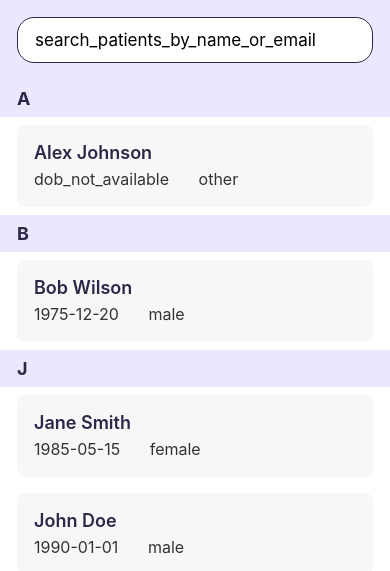
Scenario: Patients › Search Functionality › should filter patients by name
Expected: the text "John Doe" is shown, [34,510,117,531]
Type "John" into the field with placeholder "search_patients_by_name_or_email" at (195, 40), box [17,17,373,63]
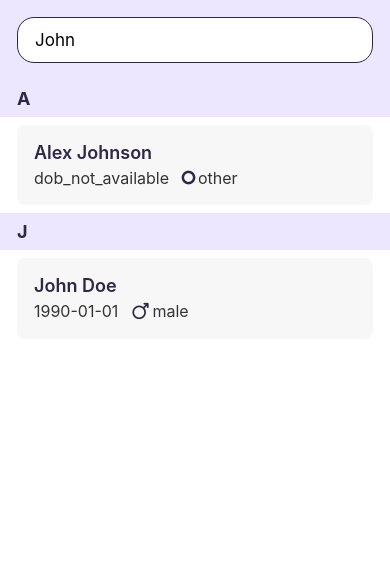
Expected: the text "John Doe" is shown, [34,275,117,296]
Result: the text "Jane Smith" is gone
Result: the text "Bob Wilson" is gone
